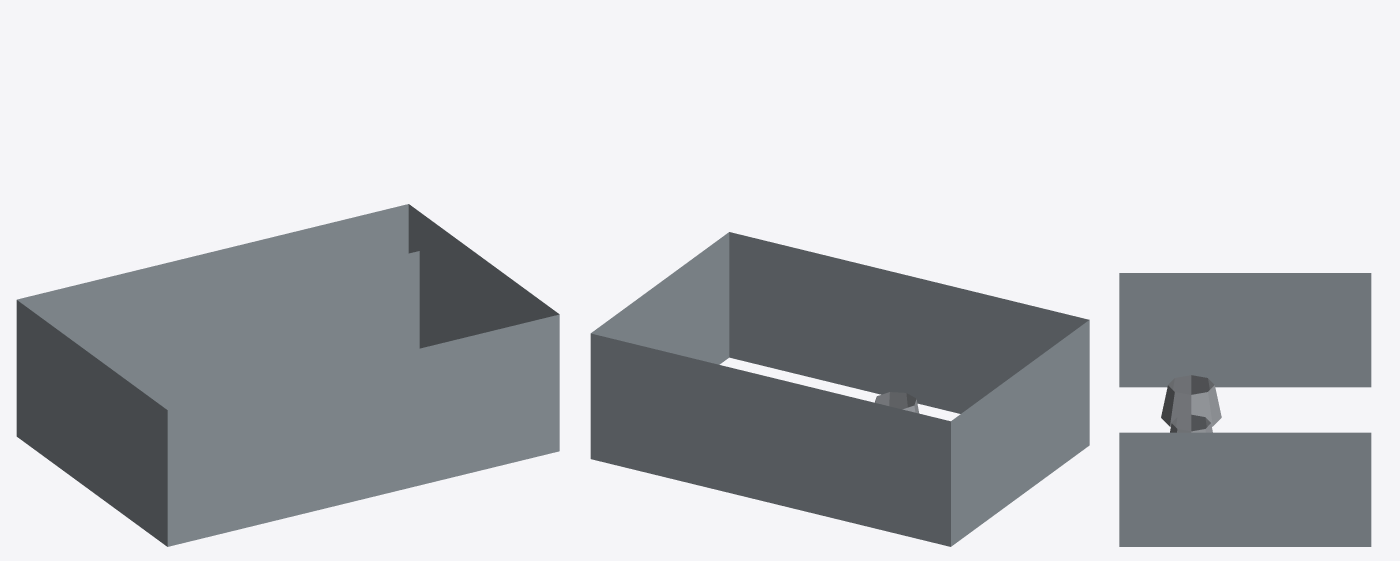
Rendered from Bld_I_med_L4_A.fbx.
3 renders of one model, left to right at view 1: azimuth 30°, elevation 25°; view 2: azimuth 150°, elevation 25°; view 3: azimuth 270°, elevation 25°, orthographic. The views are drawn at different scales.
Parts seen in each view (by area): view 1: Bld_I_med_L4_A_LOD0; view 2: Bld_I_med_L4_A_LOD0; view 3: Bld_I_med_L4_A_LOD0.
Part boxes in pixels (box(x1,y1,x2,y2)): Bld_I_med_L4_A_LOD0: box(16, 204, 559, 546); Bld_I_med_L4_A_LOD0: box(590, 232, 1089, 546); Bld_I_med_L4_A_LOD0: box(1119, 273, 1371, 546).
Size of what is drawn, in the model's own units: 2160 by 2425 by 1487.
Materials: 1 (1 with a texture image).
